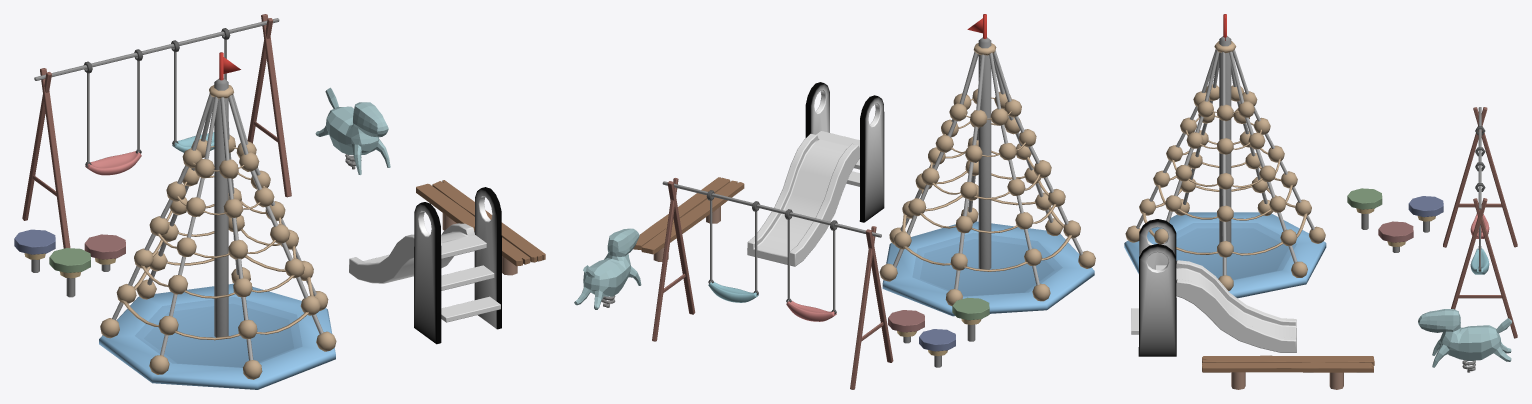
File: park assets.fbx
The picture shows the model from 3 angles, left to right: view 1: azimuth 30°, elevation 25°; view 2: azimuth 150°, elevation 25°; view 3: azimuth 270°, elevation 25°; orthographic projection. The views are drawn at different scales.
Visible parts, largest first — view 1: pajia_5, huati_7, qiuqiangan.001_8, muma003_6, dengtui011_3, caigao05.002_10, caigao05.001_9, caigao05_4; view 2: pajia_5, huati_7, qiuqiangan.001_8, muma003_6, dengtui011_3, caigao05.002_10, caigao05.001_9, caigao05_4; view 3: pajia_5, huati_7, qiuqiangan.001_8, dengtui011_3, muma003_6, caigao05.002_10, caigao05.001_9, caigao05_4.
Part boxes in pixels (bbox=[...]): pajia_5: bbox=[99, 52, 336, 389]; huati_7: bbox=[349, 187, 501, 344]; qiuqiangan.001_8: bbox=[22, 14, 291, 248]; muma003_6: bbox=[315, 87, 390, 174]; dengtui011_3: bbox=[416, 180, 545, 275]; caigao05.002_10: bbox=[49, 248, 90, 297]; caigao05.001_9: bbox=[14, 229, 55, 272]; caigao05_4: bbox=[84, 234, 125, 271]; pajia_5: bbox=[879, 14, 1095, 316]; huati_7: bbox=[747, 82, 884, 266]; qiuqiangan.001_8: bbox=[652, 178, 893, 389]; muma003_6: bbox=[574, 228, 641, 309]; dengtui011_3: bbox=[633, 177, 744, 261]; caigao05.002_10: bbox=[952, 297, 989, 341]; caigao05.001_9: bbox=[919, 329, 955, 367]; caigao05_4: bbox=[888, 310, 924, 343]; pajia_5: bbox=[1124, 14, 1326, 298]; huati_7: bbox=[1131, 219, 1296, 356]; qiuqiangan.001_8: bbox=[1443, 107, 1517, 338]; dengtui011_3: bbox=[1202, 355, 1374, 389]; muma003_6: bbox=[1418, 309, 1511, 372]; caigao05.002_10: bbox=[1347, 188, 1382, 229]; caigao05.001_9: bbox=[1408, 196, 1443, 232]; caigao05_4: bbox=[1378, 221, 1413, 252].
Size of what is drawn, in the model's own units: 172 by 119 by 170.
